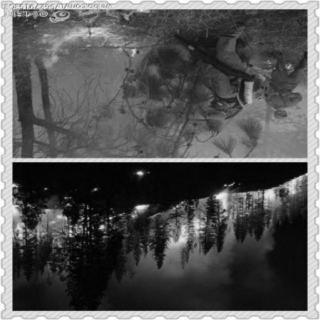Fire: (17, 169, 300, 261)
